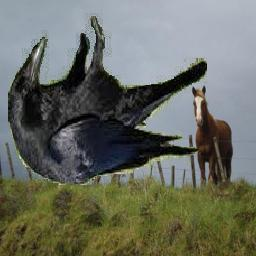Crow: (9, 13, 208, 185)
